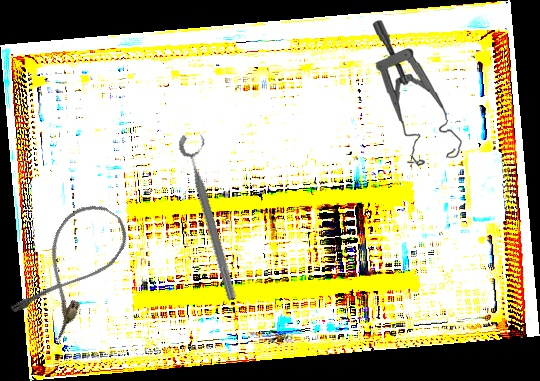Cannula: (6, 192, 137, 343)
Fixation Ring: (175, 129, 251, 303)
Speculum: (371, 16, 464, 168)
